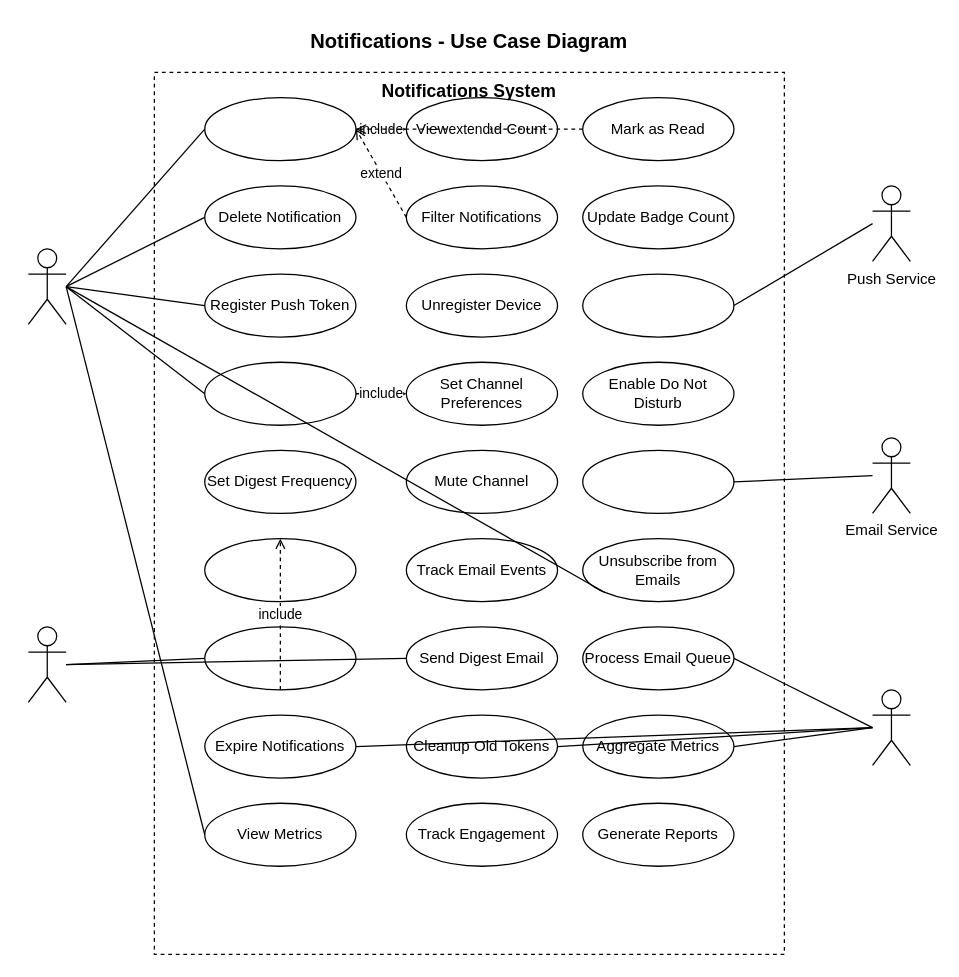
Some shapes in this 959 by 977 pixel diagram are drawn without their labels. Each missing label, with the box of its shape:
Create Notification: (203, 626, 356, 690)
Manage Preferences: (203, 361, 356, 425)
Queue Email: (203, 537, 356, 602)
Scheduler: (871, 689, 910, 765)
Send Email Notification: (581, 449, 734, 513)
Send Push Notification: (581, 273, 734, 337)
System: (27, 626, 66, 702)
User: (27, 248, 66, 324)
View Notifications: (203, 96, 356, 161)
